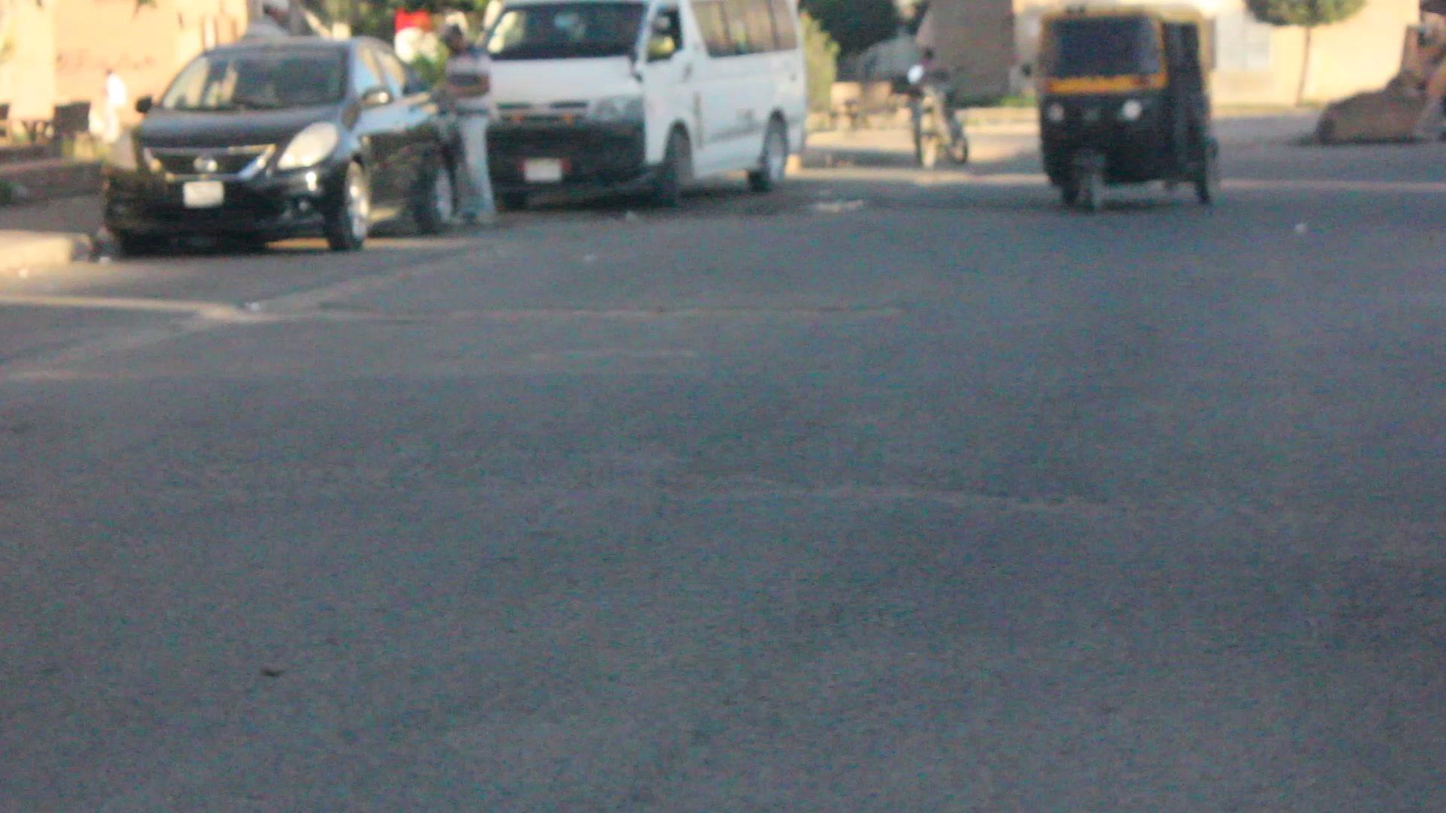Pothole: (680, 455, 1117, 529), (296, 301, 911, 337)
